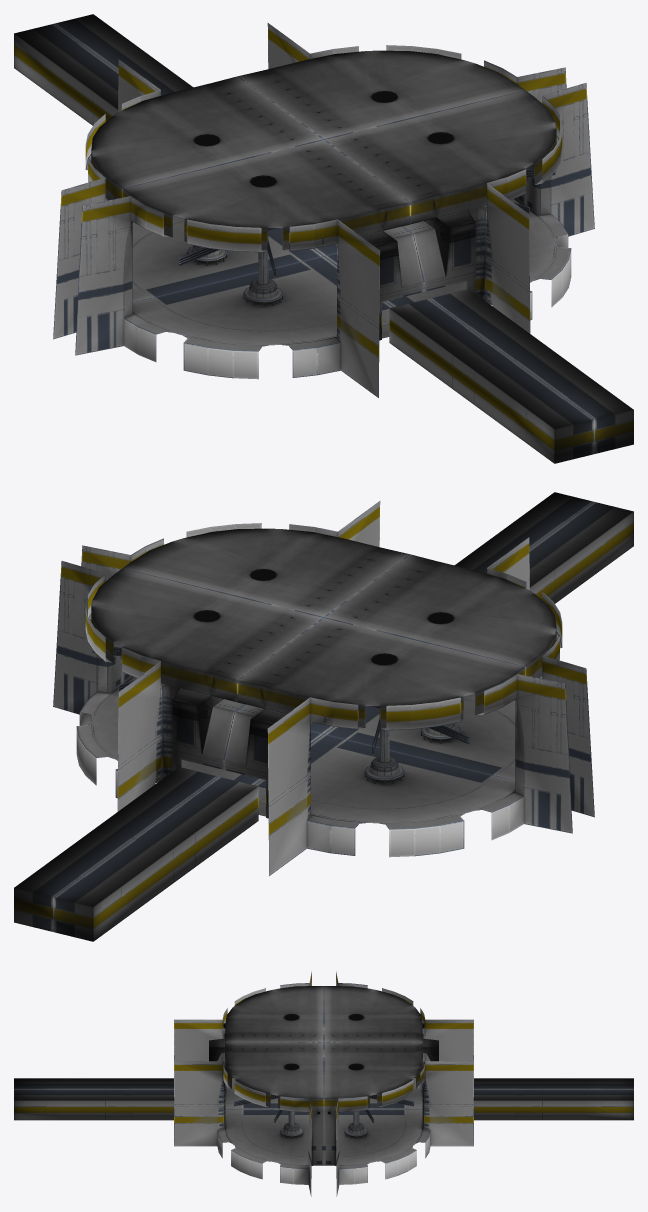
The model's file is spacestation_scene_texture_test.glb.
The picture shows the model from 3 angles, top to bottom: view 1: azimuth 30°, elevation 25°; view 2: azimuth 150°, elevation 25°; view 3: azimuth 270°, elevation 25°; orthographic projection. The views are drawn at different scales.
Visible parts, largest first — view 1: Circle.021; view 2: Circle.021; view 3: Circle.021.
Boxes of the visible parts, left/top/right/bottom form: Circle.021: left=14, top=14, right=633, bottom=463; Circle.021: left=14, top=492, right=633, bottom=941; Circle.021: left=14, top=971, right=633, bottom=1196.
Size of the model in its own units: 2299 by 624 by 4143.
1 material, 1 textured.
